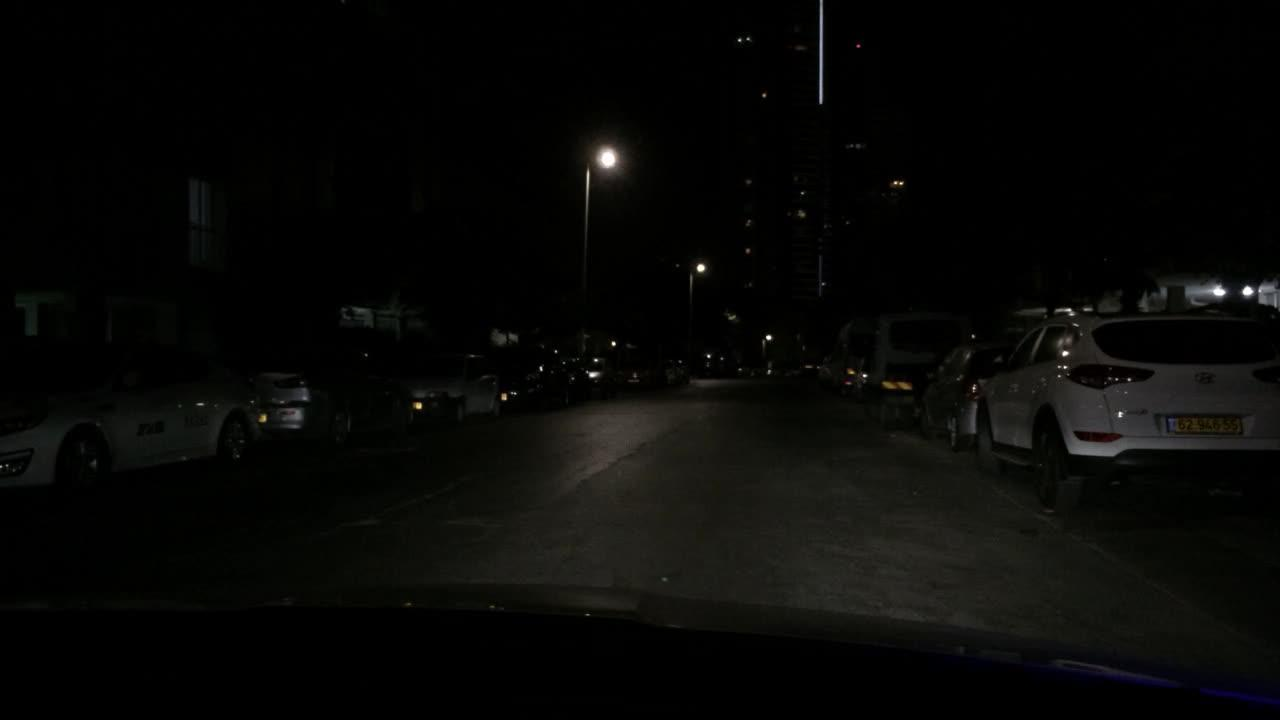Hyundai: (1197, 366, 1220, 387)
